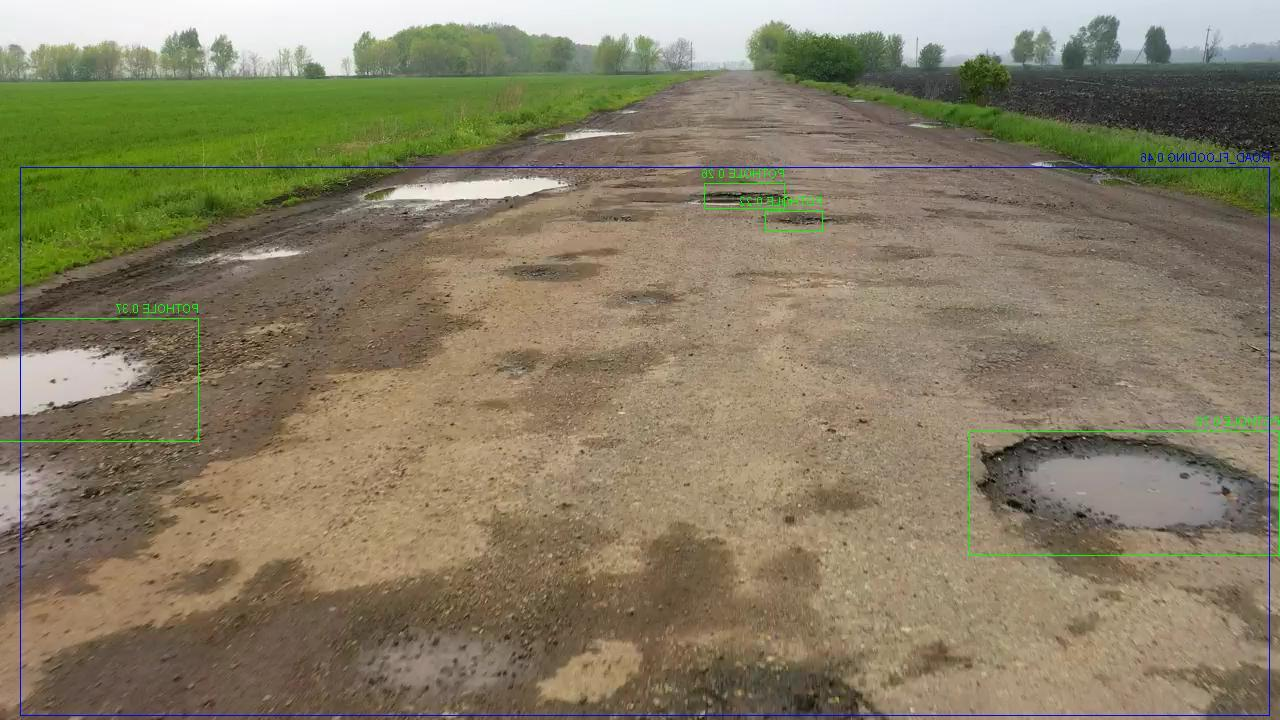POTHOLE: (429, 342, 928, 551)
